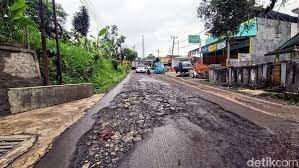Pothole: (47, 74, 295, 167)
